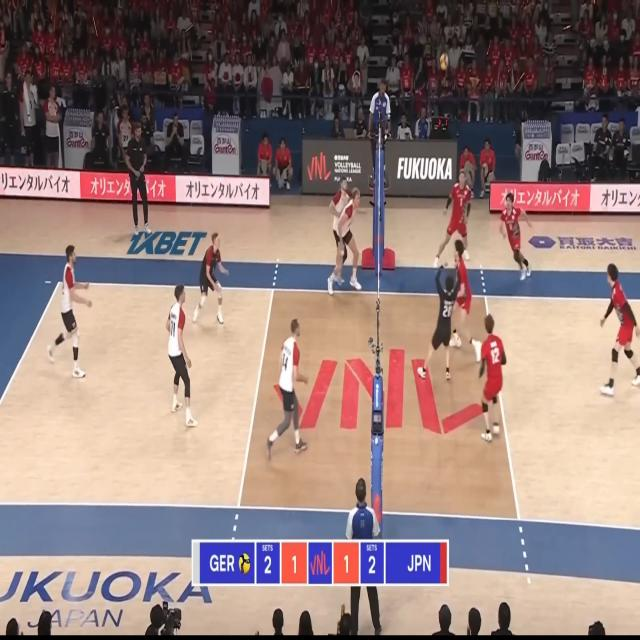ball: (440, 52, 449, 70)
